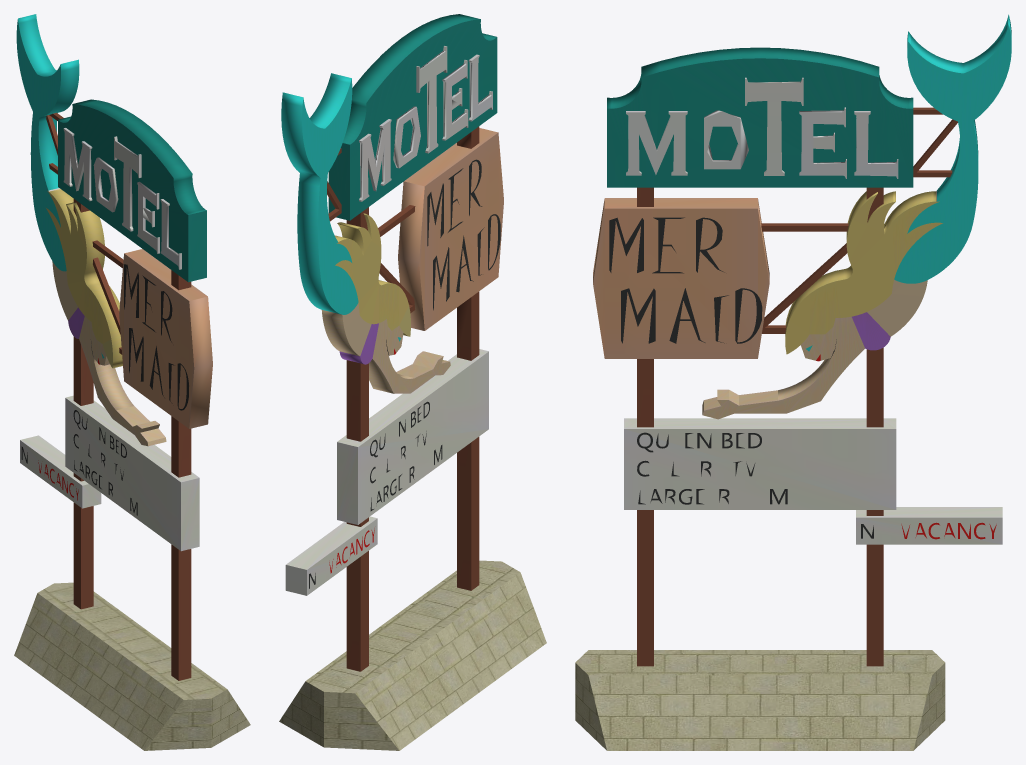
Rendered from motel-sign.lod0.glb.
3 views of the same model, side by side, from view 1: azimuth 30°, elevation 25°; view 2: azimuth 150°, elevation 25°; view 3: azimuth 270°, elevation 25° (orthographic). The views are drawn at different scales.
Parts seen in each view (by area): view 1: Object_16, Object_17; view 2: Object_16, Object_17; view 3: Object_16, Object_17.
Boxes of the visible parts, <box> form: Object_16: <box>16,14,212,680</box>; Object_17: <box>14,582,250,750</box>; Object_16: <box>281,14,503,671</box>; Object_17: <box>279,560,546,750</box>; Object_16: <box>593,14,1011,723</box>; Object_17: <box>575,650,945,750</box>.
Bounding box in the file's own units: 2.07 × 11.09 × 6.25.
Materials: 2 (2 with a texture image).
